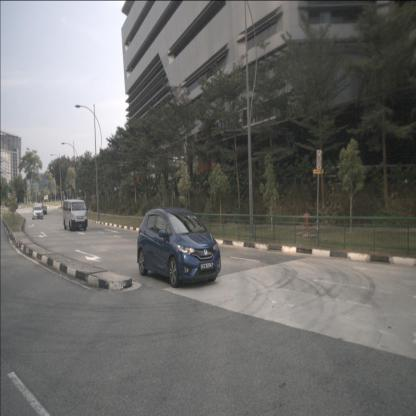vehicle-car: (137, 209, 221, 288), (62, 199, 88, 232), (32, 206, 44, 220), (40, 206, 47, 215)
